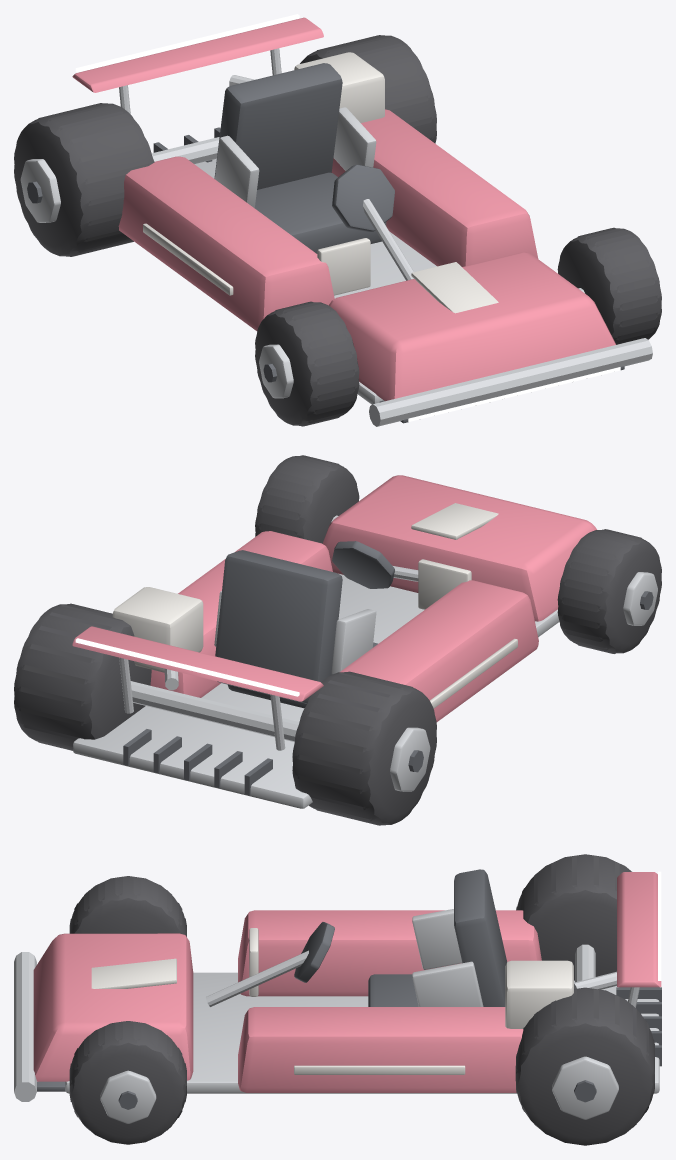
File: go_kart.fbx
3 renders of one model, top to bottom at view 1: azimuth 30°, elevation 25°; view 2: azimuth 150°, elevation 25°; view 3: azimuth 270°, elevation 25°, orthographic.
Parts seen in each view (by area): view 1: Body, Trim, Metal, Wheel_RR, Wheel_FR, Accent, Wheel_FL, Wheel_RL, Light; view 2: Body, Metal, Trim, Wheel_RR, Wheel_RL, Wheel_FR, Accent, Wheel_FL, Light; view 3: Body, Metal, Wheel_RL, Trim, Wheel_FL, Wheel_RR, Accent, Wheel_FR, Light.
Part boxes in pixels (<box>): Body: <box>72,17,615,401</box>; Trim: <box>27,63,624,423</box>; Metal: <box>20,48,652,426</box>; Wheel_RR: <box>14,103,154,256</box>; Wheel_FR: <box>255,301,359,426</box>; Accent: <box>143,52,498,313</box>; Wheel_FL: <box>557,227,661,344</box>; Wheel_RL: <box>300,35,436,143</box>; Light: <box>75,14,620,421</box>; Body: <box>72,475,596,721</box>; Metal: <box>73,515,657,808</box>; Trim: <box>123,541,653,795</box>; Wheel_RR: <box>292,671,436,825</box>; Wheel_RL: <box>14,603,151,750</box>; Wheel_FR: <box>557,529,661,653</box>; Accent: <box>112,503,517,708</box>; Wheel_FL: <box>255,455,359,543</box>; Light: <box>75,638,299,696</box>; Body: <box>33,872,661,1092</box>; Metal: <box>14,909,659,1123</box>; Wheel_RL: <box>515,987,654,1145</box>; Trim: <box>37,869,661,1109</box>; Wheel_FL: <box>69,1021,186,1144</box>; Wheel_RR: <box>516,854,631,980</box>; Accent: <box>91,928,573,1074</box>; Wheel_FR: <box>69,876,186,936</box>; Light: <box>658,871,661,980</box>.
Size of the model in its own units: 3.82 by 1.65 by 5.67.
